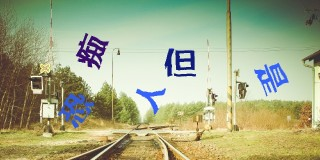人: (135, 87, 166, 114)
但: (164, 47, 197, 78)
恐: (60, 93, 95, 128)
是: (255, 63, 288, 96)
痴: (75, 33, 108, 70)
